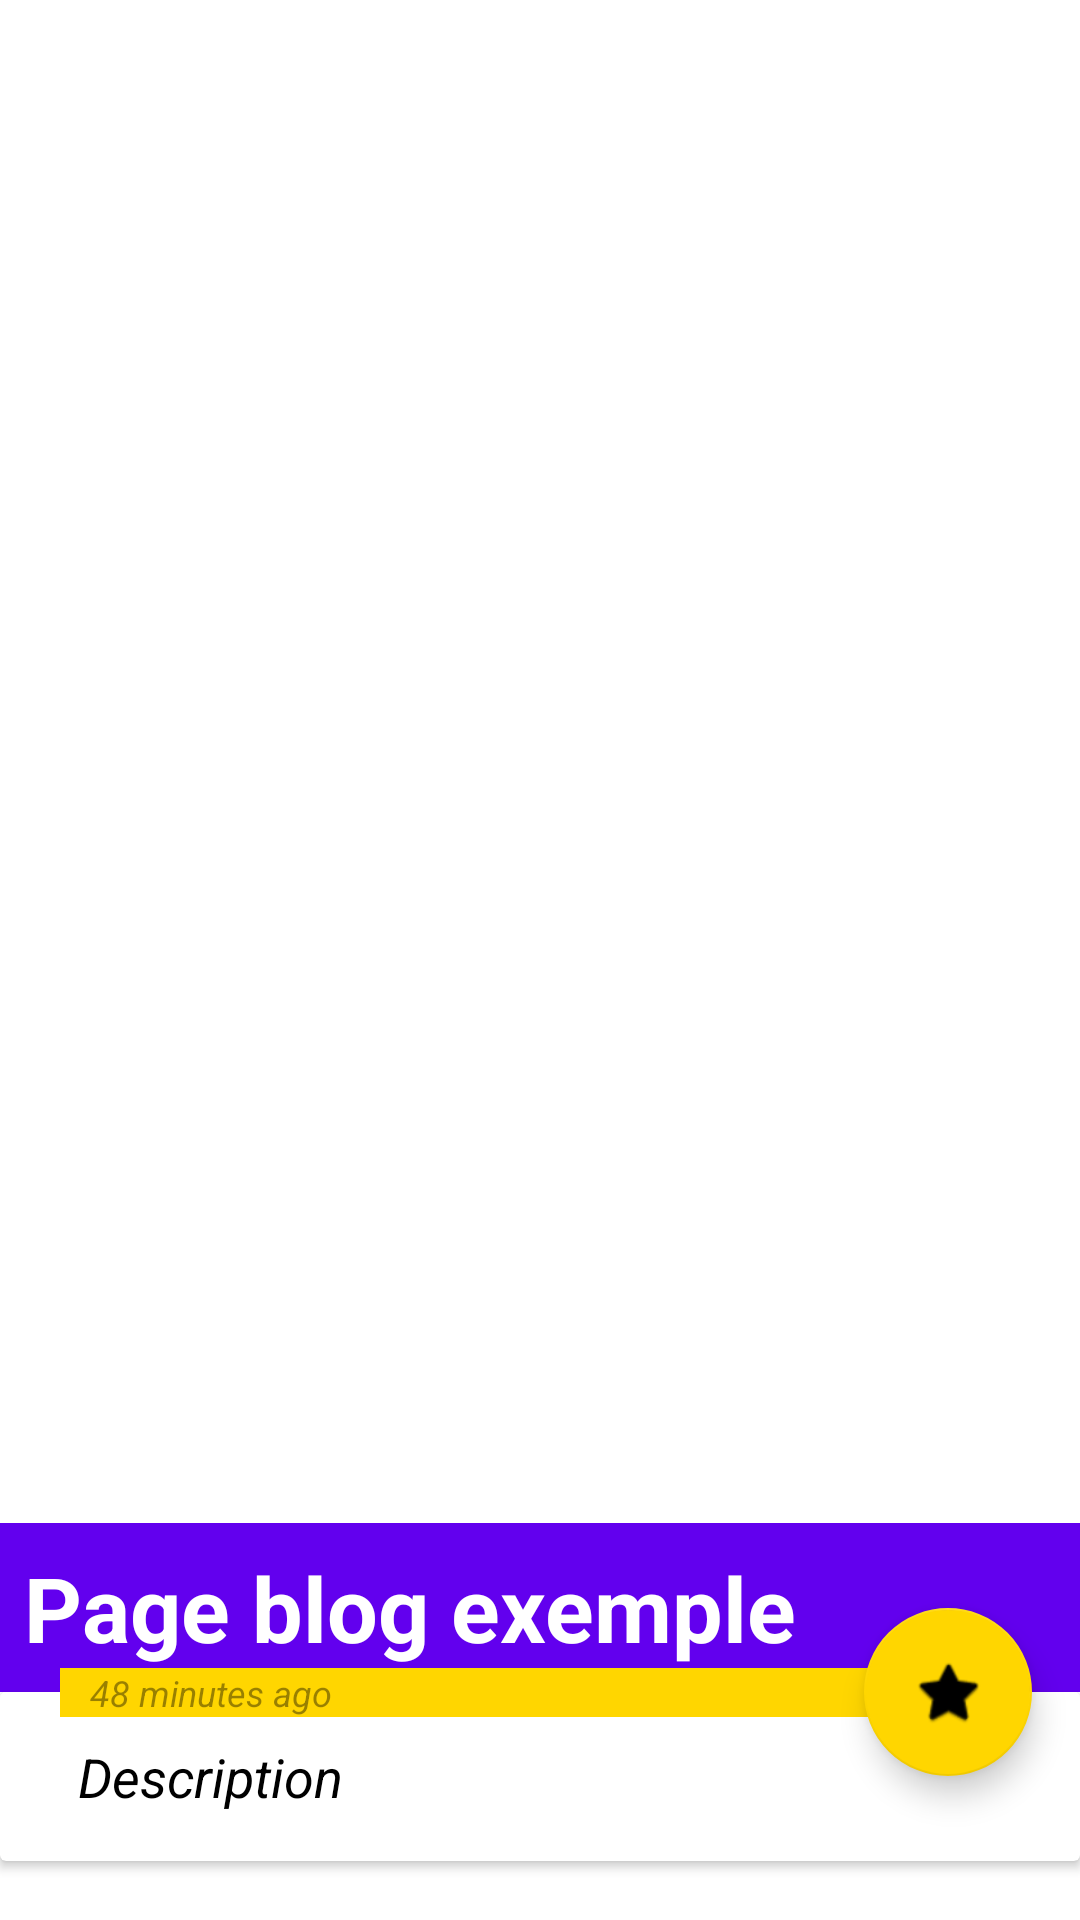

Named icons in this screenshot (1080px×1920px) and their centers, point (x, y):
star on: point (948, 1692)
